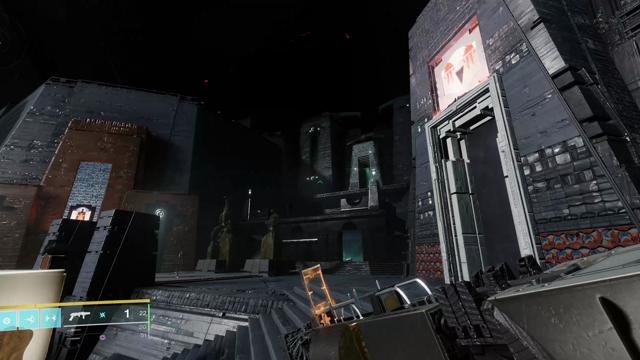give: (441, 40, 480, 96)
worship: (70, 207, 91, 220)
